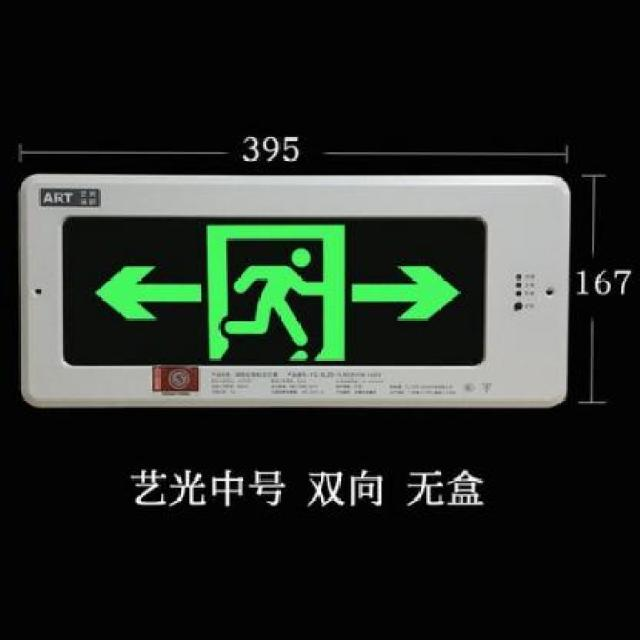exit_sign: (54, 212, 488, 368)
